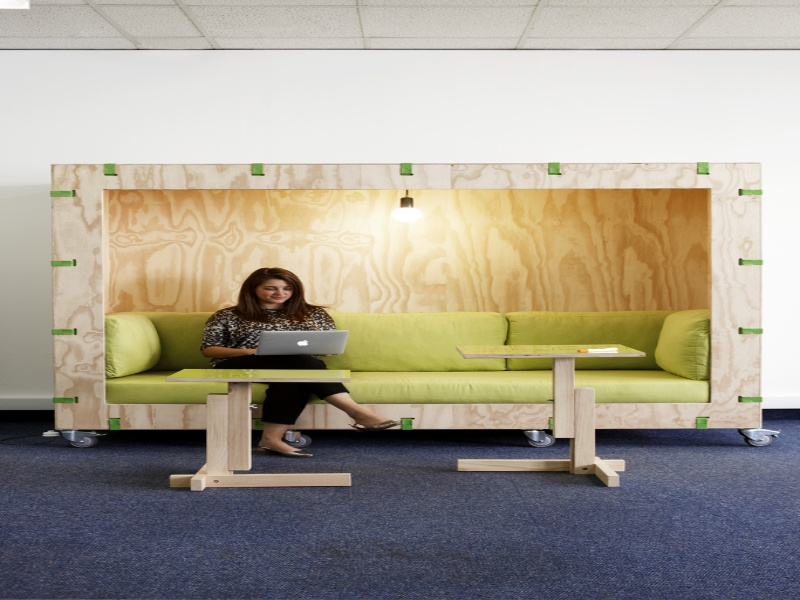couch: (95, 300, 715, 435)
